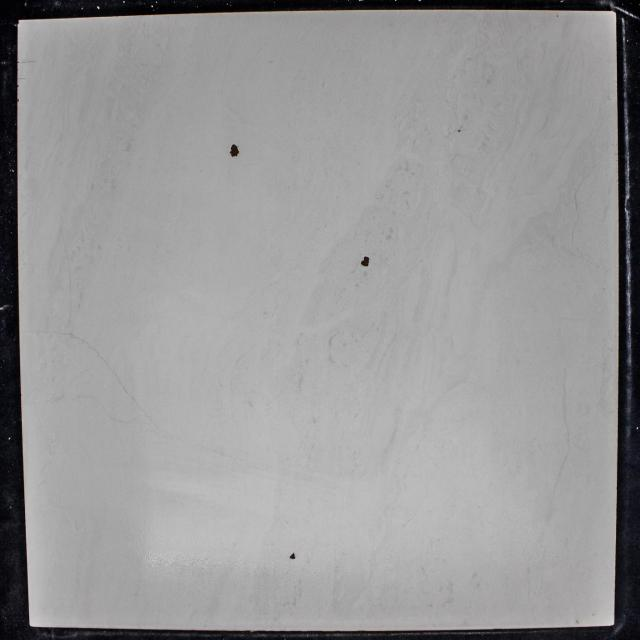edge-chipping: (612, 10, 616, 14)
hole: (228, 141, 241, 158), (360, 254, 370, 270), (288, 552, 296, 560), (457, 129, 461, 132)
line: (100, 356, 148, 416), (34, 330, 100, 354), (59, 225, 74, 325), (19, 59, 38, 64)
